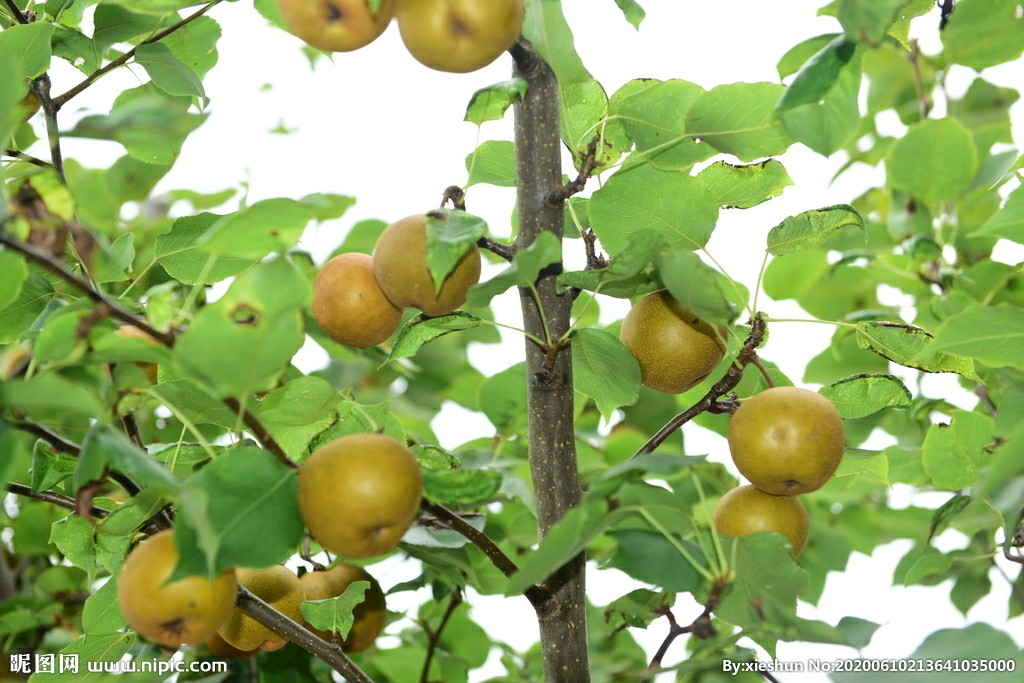pear: (295, 431, 423, 555), (115, 528, 242, 644), (726, 385, 845, 496), (619, 288, 732, 394), (376, 211, 483, 312), (305, 250, 404, 348), (396, 1, 527, 73), (709, 484, 813, 568), (290, 565, 386, 653), (221, 566, 305, 656), (274, 1, 397, 52)
